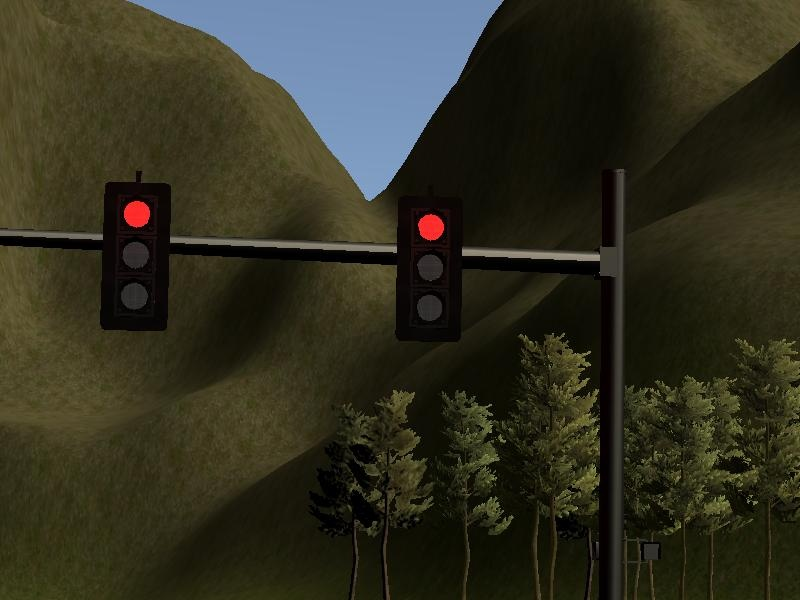red: (97, 171, 174, 336), (392, 191, 469, 349)
